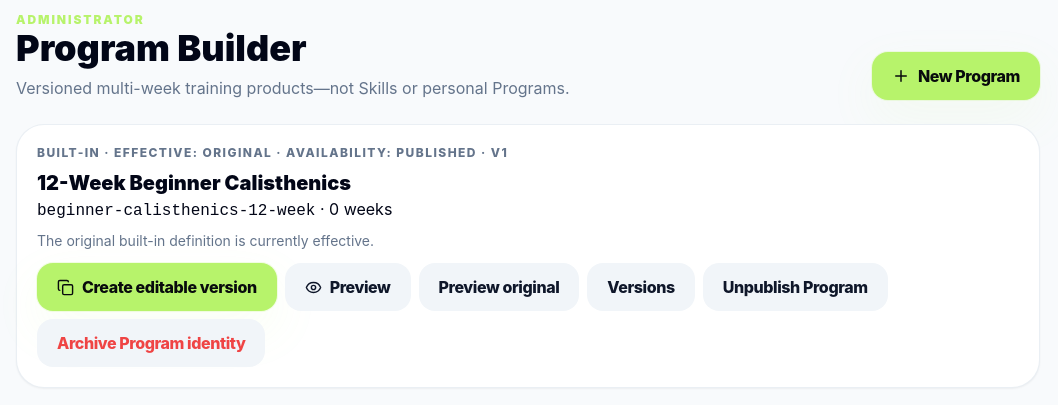
Test case: Admin Managed Program lifecycle UI › unpublishes and republishes a built-in through the stable-key availability API
Click the button "Unpublish Program" at (795, 287), box [703,263,888,311]
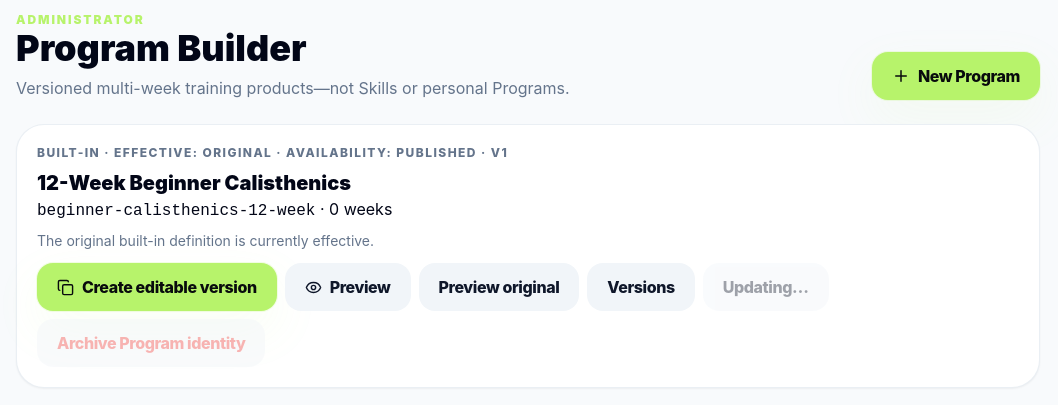
Click the button named "Unpublish Program" at (766, 287), box [703,263,828,311]
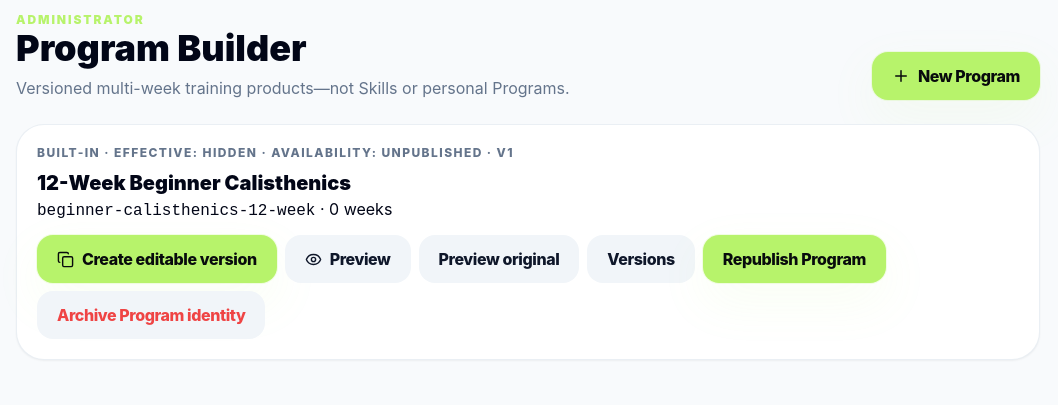
Click the button "Republish Program" at (794, 259), box [703,235,886,283]
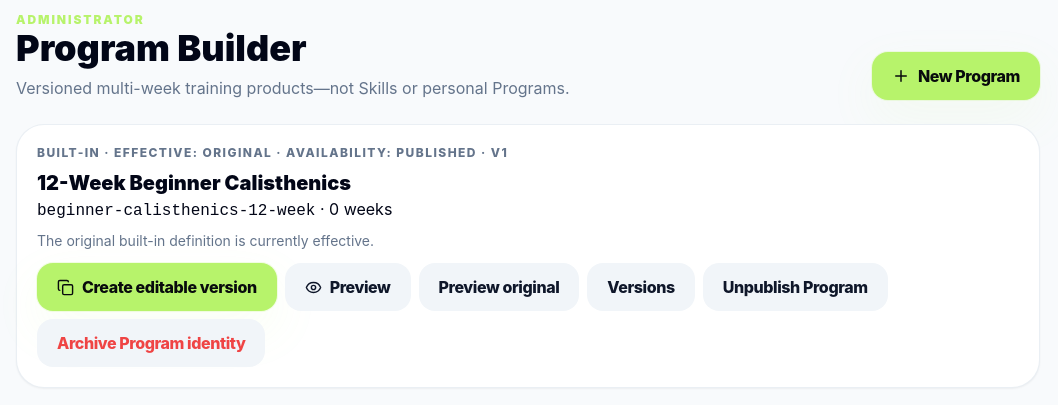
Expected: the button "Unpublish Program" is shown, [703,263,888,311]
